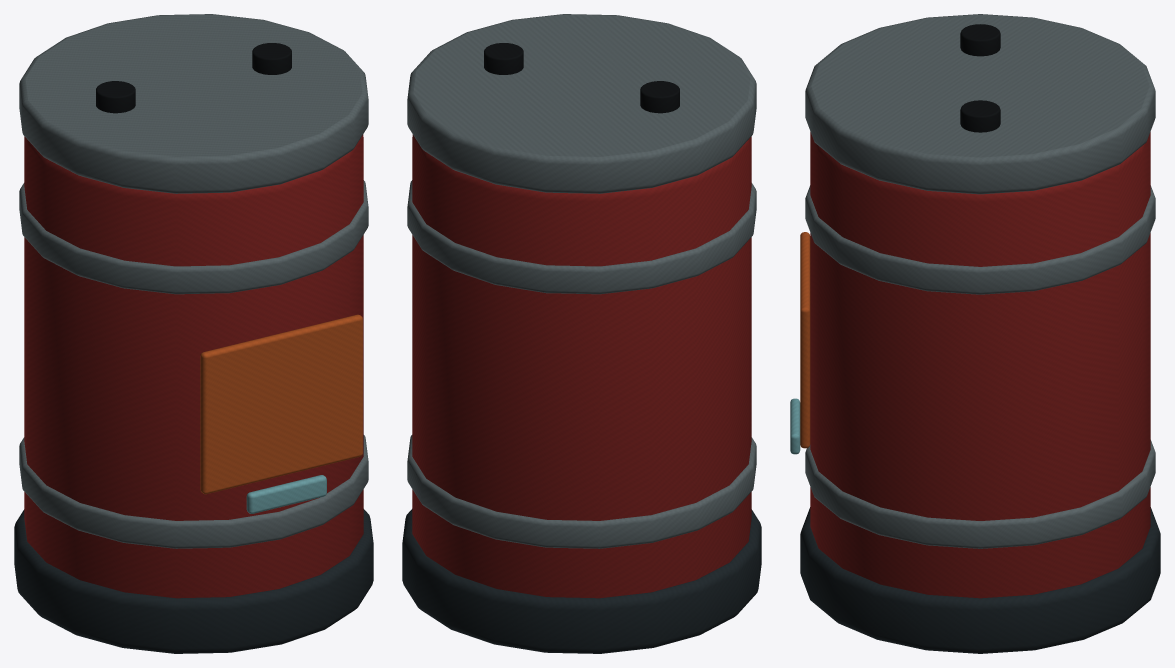
Rendered from HazardBarrel.fbx.
3 views of the same model, side by side, from view 1: azimuth 30°, elevation 25°; view 2: azimuth 150°, elevation 25°; view 3: azimuth 270°, elevation 25° (orthographic).
Visible parts, largest first — view 1: HazardBarrel_Mesh; view 2: HazardBarrel_Mesh; view 3: HazardBarrel_Mesh.
Boxes of the visible parts, box(x1,y1,x2,y2) form: HazardBarrel_Mesh: box(14, 14, 373, 653); HazardBarrel_Mesh: box(402, 14, 761, 653); HazardBarrel_Mesh: box(790, 14, 1160, 653).
Bounding box in the file's own units: 72 × 113 × 74.
6 materials, 6 textured.
